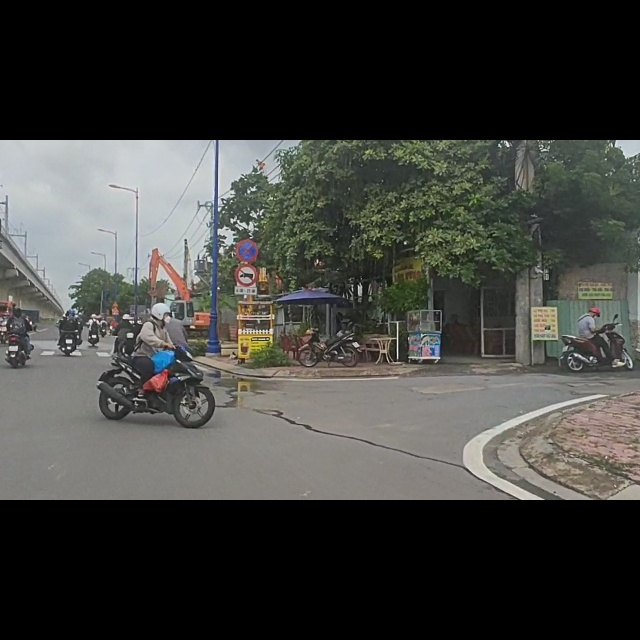bien_nguy_hiem: (235, 222, 259, 261), (237, 177, 259, 217)
